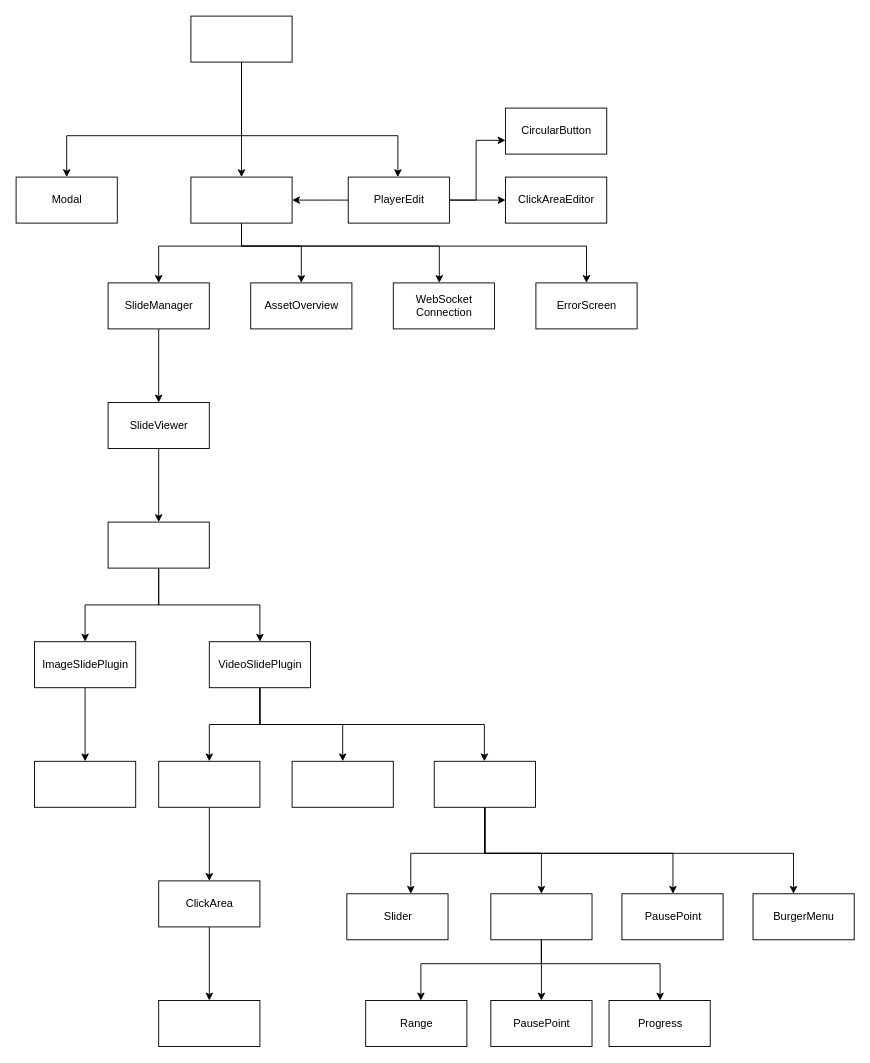
Some shapes in this 870 by 1063 pixel diagram are drawn without their labels. Here are the shapes that lost their labels. From the top down, the centre of each, then its label:
(241,38): App
(241,199): Player
(158,544): BaseSlidePlugin
(85,783): ZoomableRect
(209,783): ClickAreas
(342,783): ClickAreasAnswer
(484,783): VideoControls
(541,916): ThumbnailBar
(209,1023): Handle
